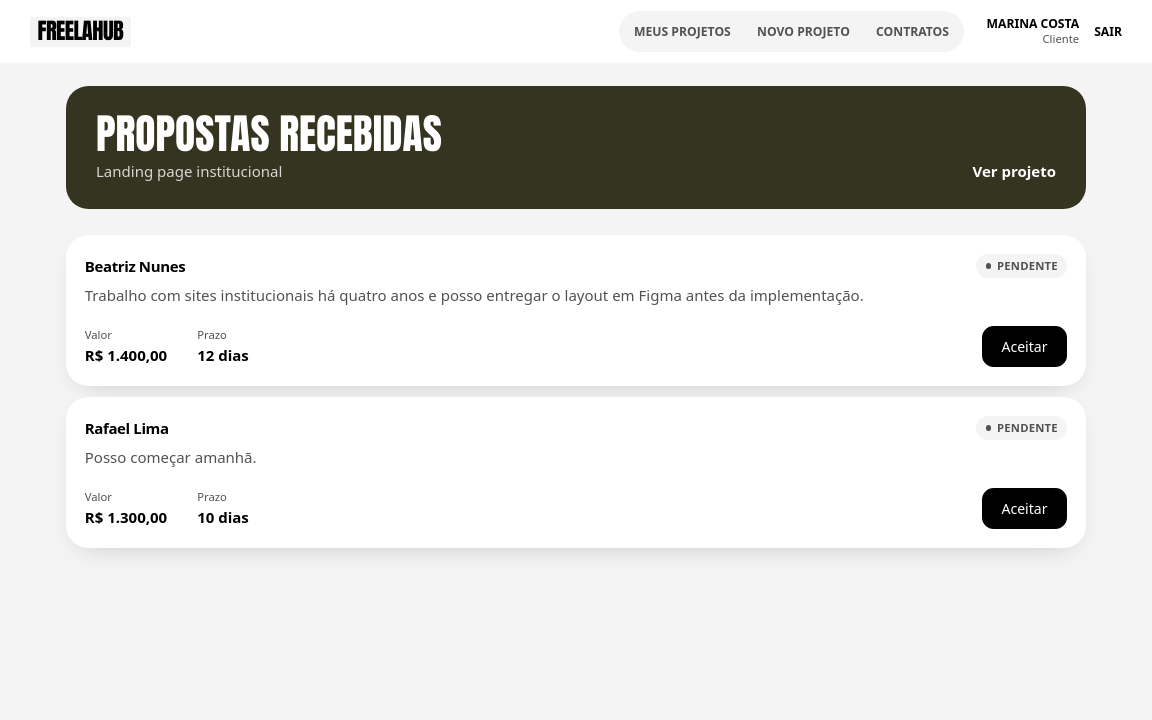
Scenario: fluxo de aceite com o adaptador simulado › aceita uma proposta, recusa as demais e conclui o pagamento
Click the button with aria-label "Aceitar proposta de Rafael Lima" at (1024, 509), box [982,488,1067,529]
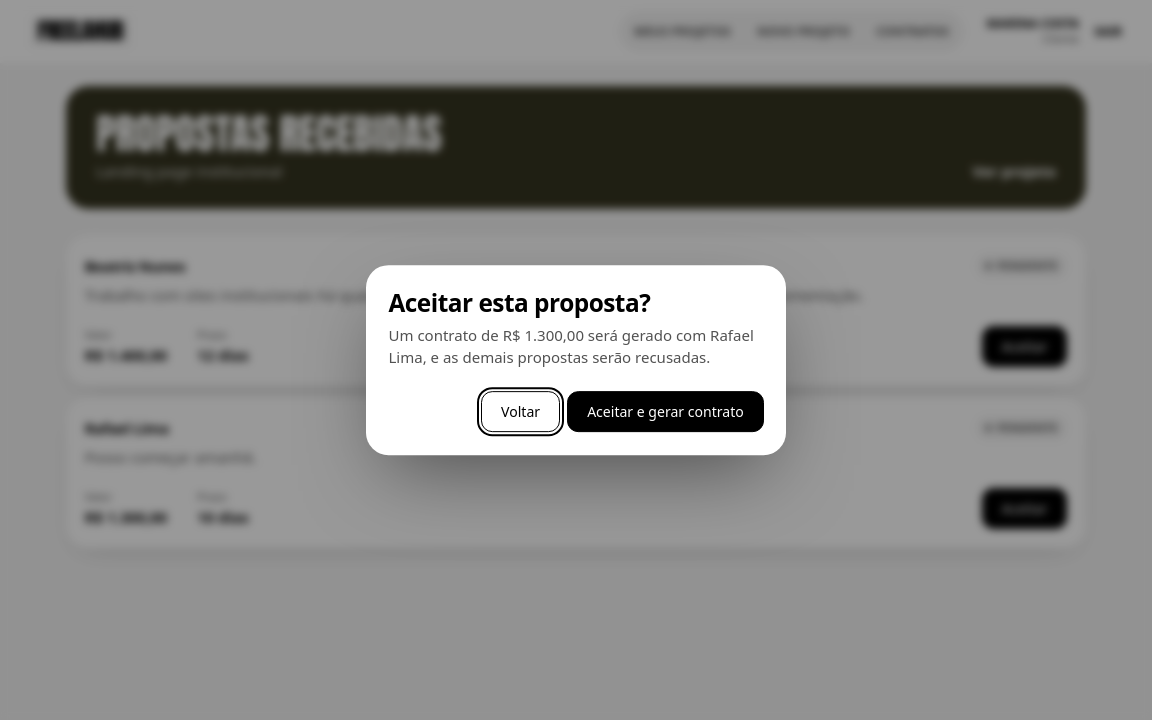
Result: the text "demais propostas serão recusadas" is shown at [388,325,754,367]
Click the button "Aceitar e gerar contrato" at (665, 412), box [567,391,764,432]
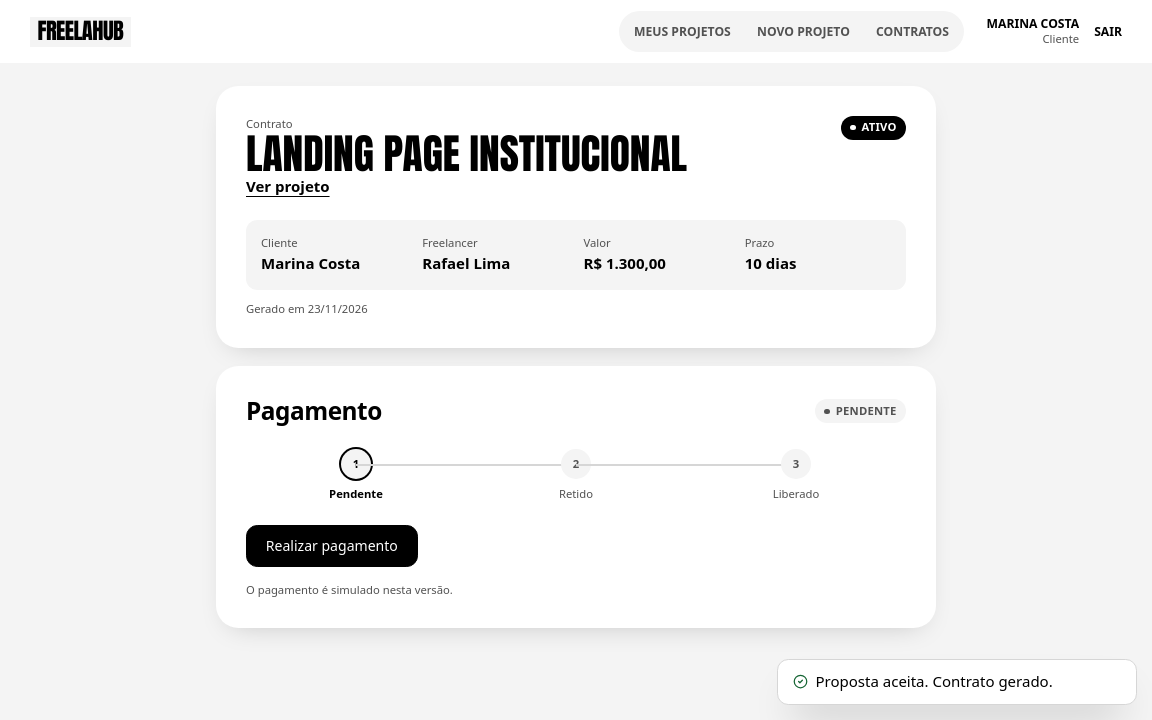
Click the button "Realizar pagamento" at (332, 546), box [246,525,418,567]
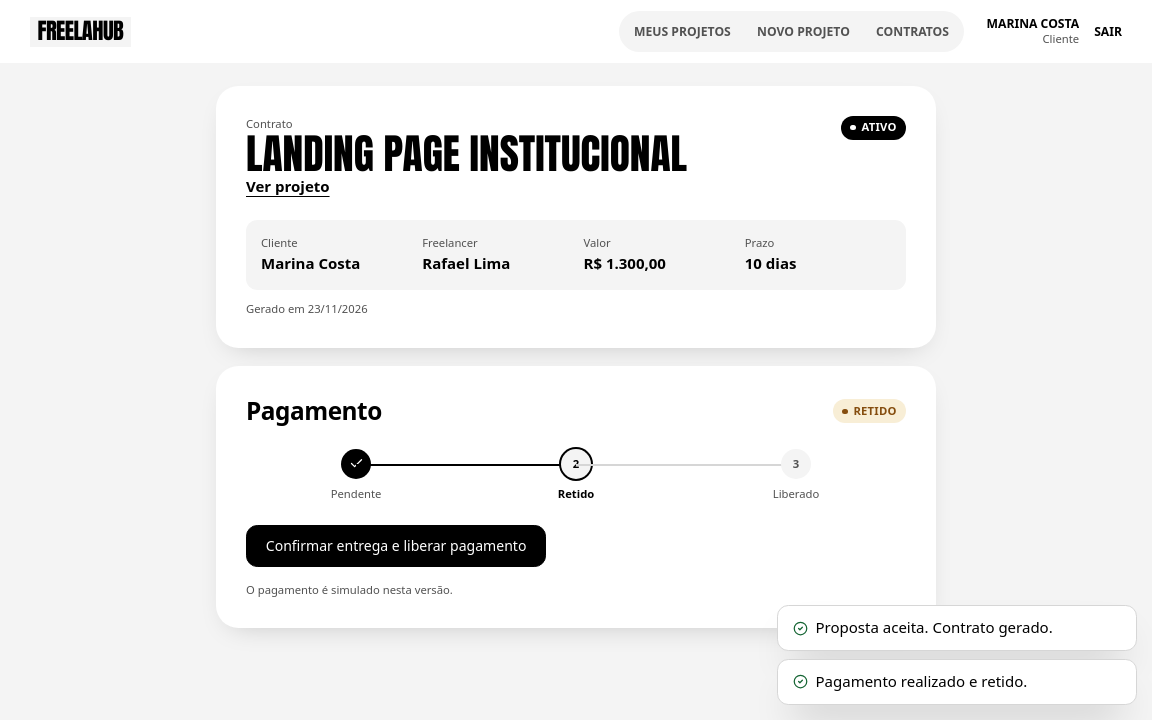
Click the button "Confirmar entrega e liberar pagamento" at (396, 546), box [246,525,546,567]
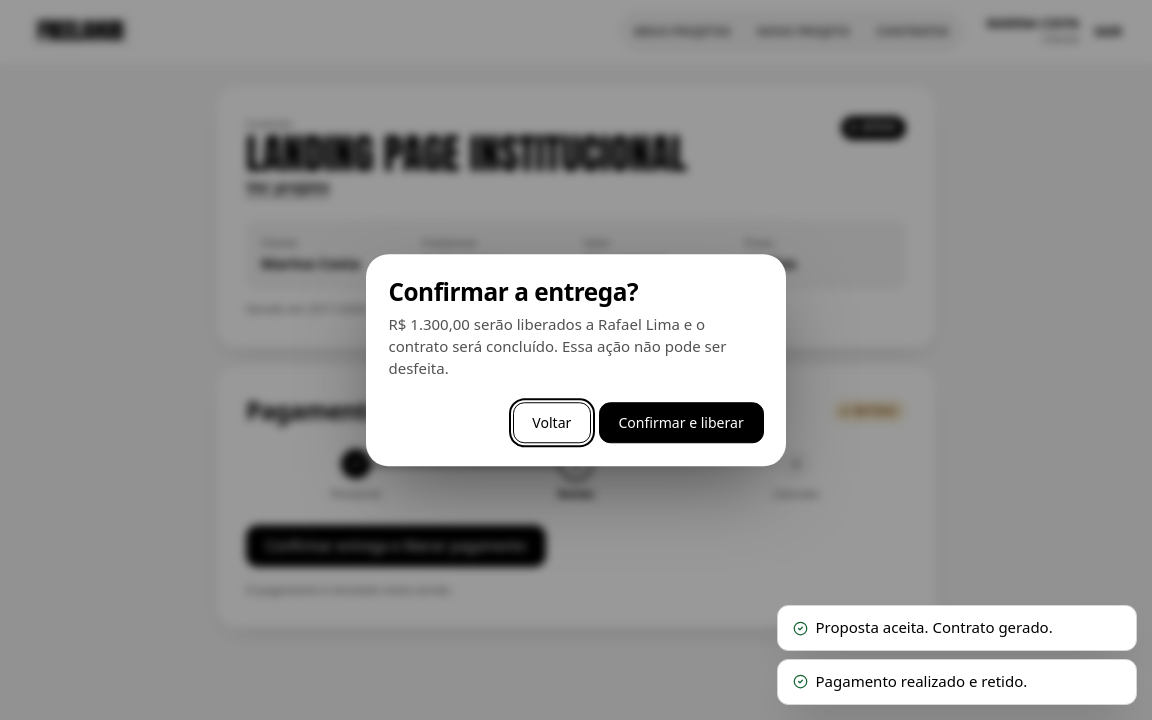
Click the button "Confirmar e liberar" at (681, 423), box [599,402,764,443]
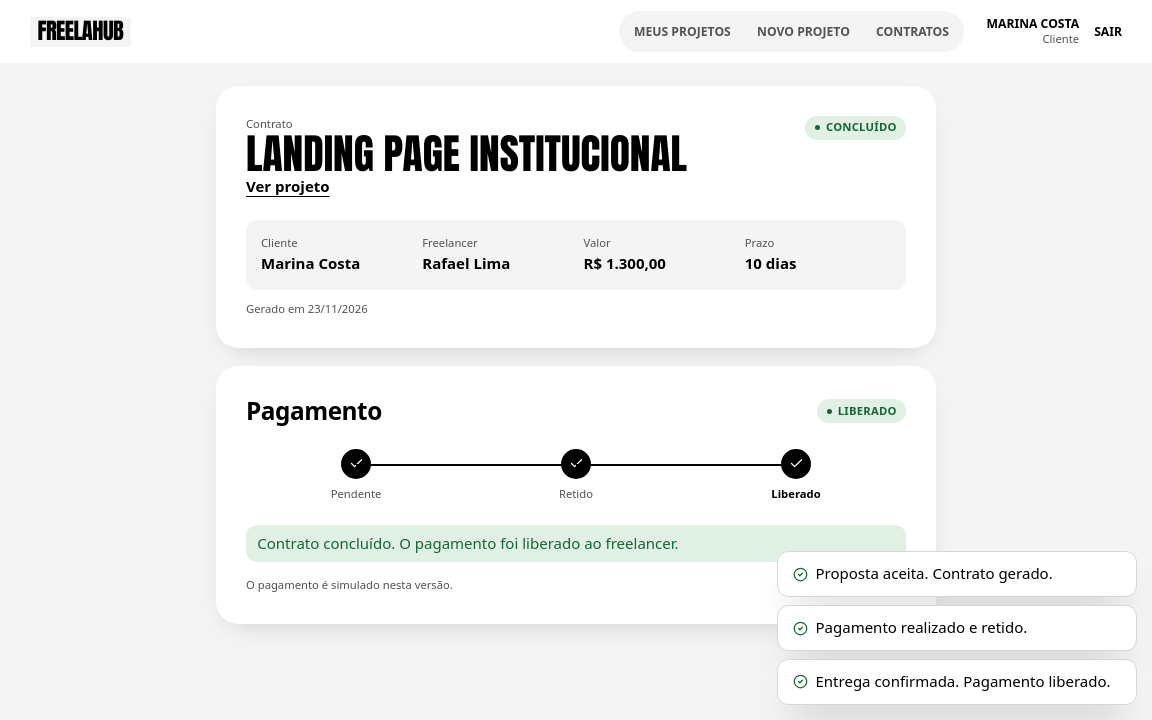
Result: the text "Contrato concluído. O pagamento foi liberado ao freelancer." is shown at [246,525,906,562]
